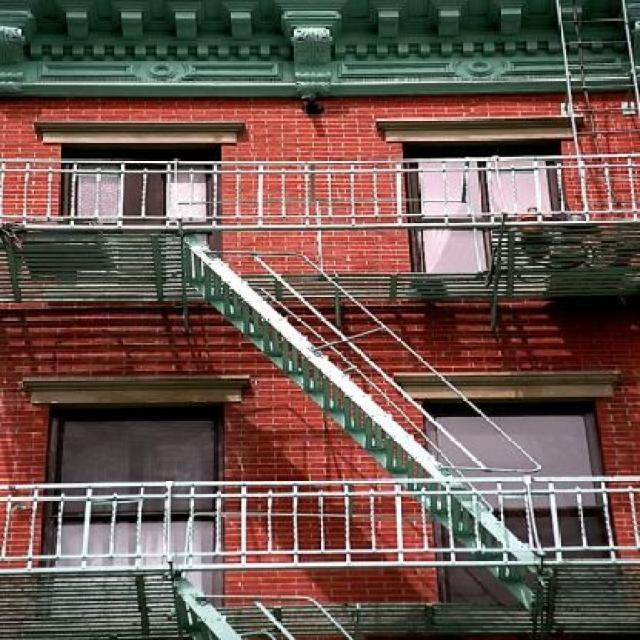stair: (189, 233, 557, 610)
